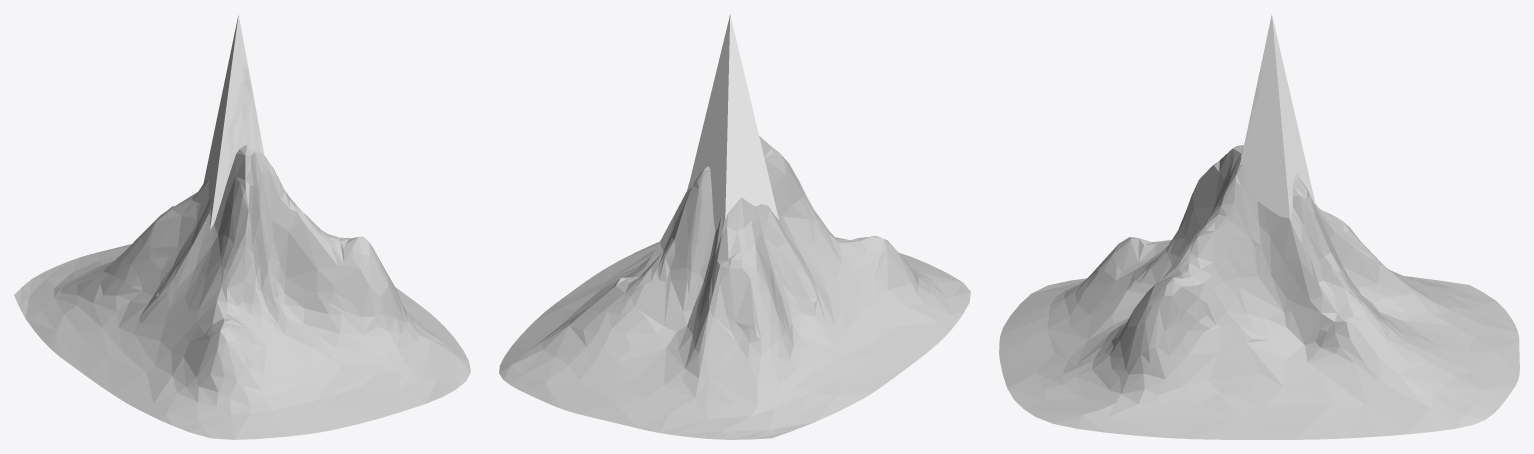
The model's file is SM_Env_Mountains_03.fbx.
The picture shows the model from 3 angles, left to right: view 1: azimuth 30°, elevation 25°; view 2: azimuth 150°, elevation 25°; view 3: azimuth 270°, elevation 25°; orthographic projection. The views are drawn at different scales.
Parts seen in each view (by area): view 1: node_id4, root; view 2: node_id4, root; view 3: node_id4, root.
Boxes of the visible parts, left/top/right/bottom form: node_id4: left=14, top=144, right=470, bottom=439; root: left=203, top=14, right=264, bottom=229; node_id4: left=499, top=136, right=970, bottom=439; root: left=687, top=14, right=778, bottom=231; node_id4: left=999, top=145, right=1519, bottom=439; root: left=1239, top=14, right=1315, bottom=219.
Size of the model in its own units: 0.3957 by 0.3696 by 0.5117.
2 materials, 1 textured.
